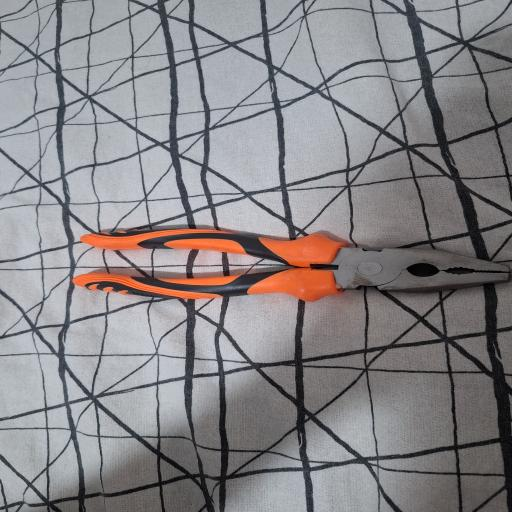alicate: (70, 226, 512, 304)
